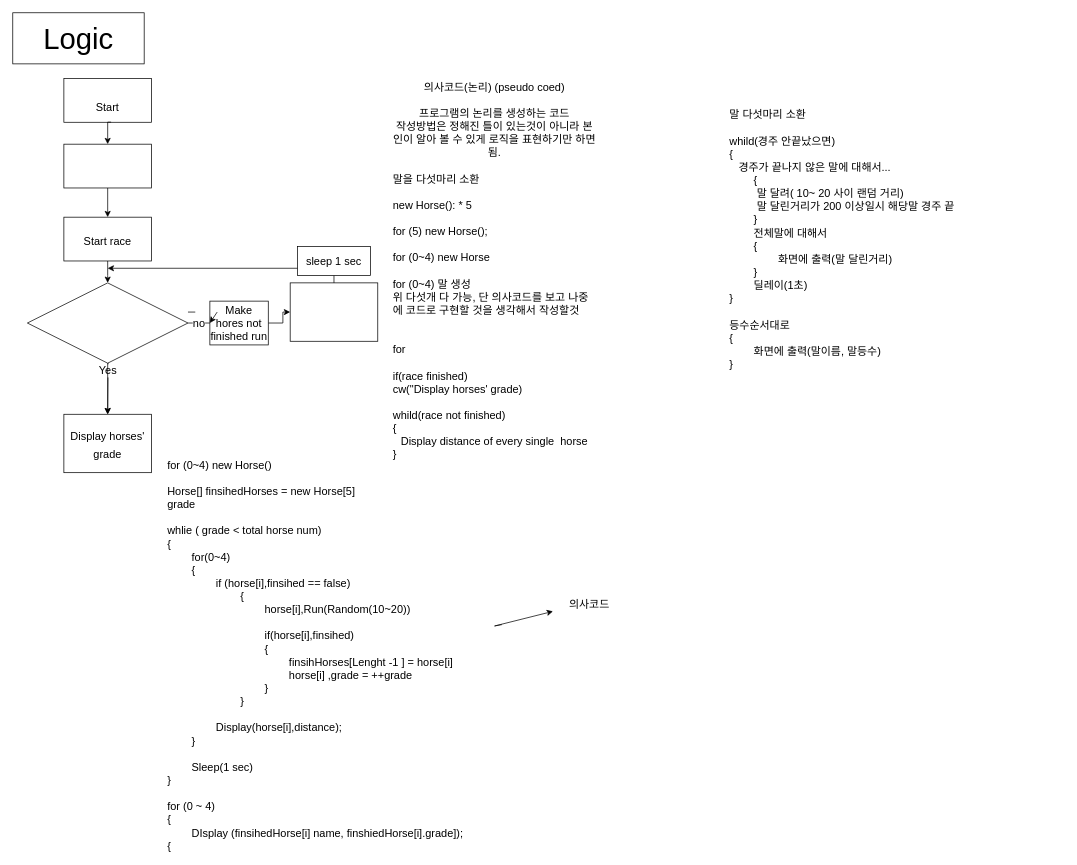
This 1077x865 diagram has some shape labels left out. The box of each missing label's shape, as (x1, y1, x2, y2) in pixels:
Display distance of every single horse: (289, 282, 378, 341)
is race finished?: (27, 282, 188, 363)
Spwn 5 Horses: (63, 143, 151, 188)
